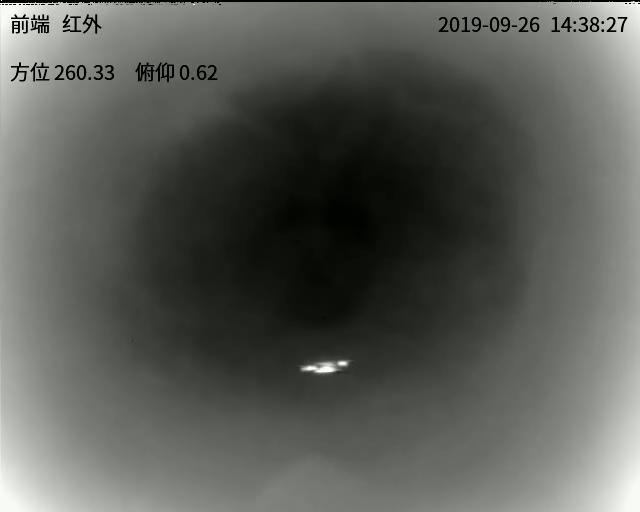uav: (301, 354, 361, 379)
